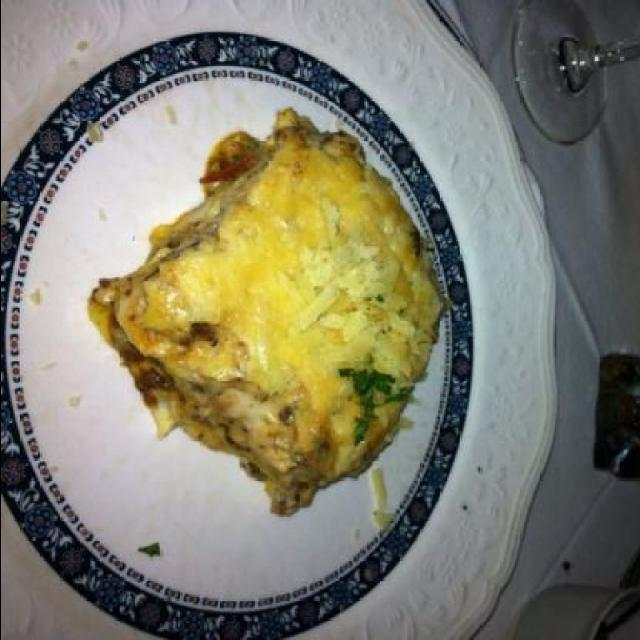Lasagna: (80, 147, 449, 510)
